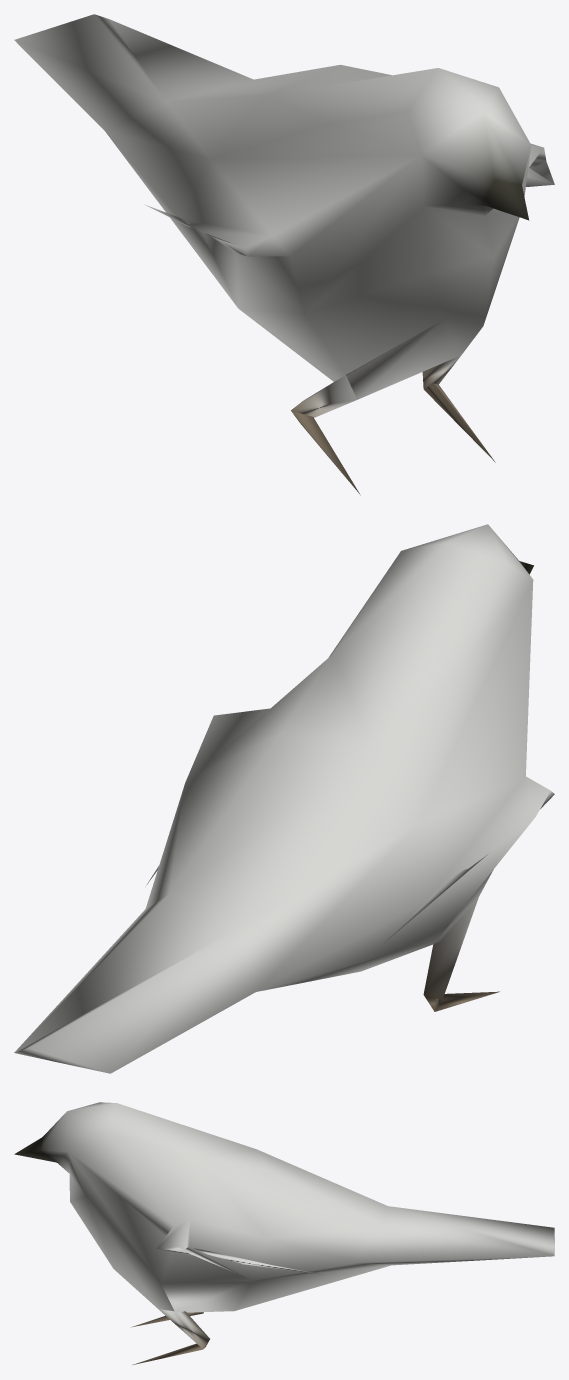
The model's file is dove-1.glb.
3 views of the same model, one above another, from view 1: azimuth 30°, elevation 25°; view 2: azimuth 150°, elevation 25°; view 3: azimuth 270°, elevation 25° (orthographic). The views are drawn at different scales.
Visible parts, largest first — view 1: dove; view 2: dove; view 3: dove.
Boxes of the visible parts, box(x1,y1,x2,y2) form: dove: box(14, 14, 554, 495); dove: box(14, 524, 554, 1073); dove: box(14, 1102, 554, 1364).
Bounding box in the file's own units: 0.1329 × 0.1616 × 0.3259.
